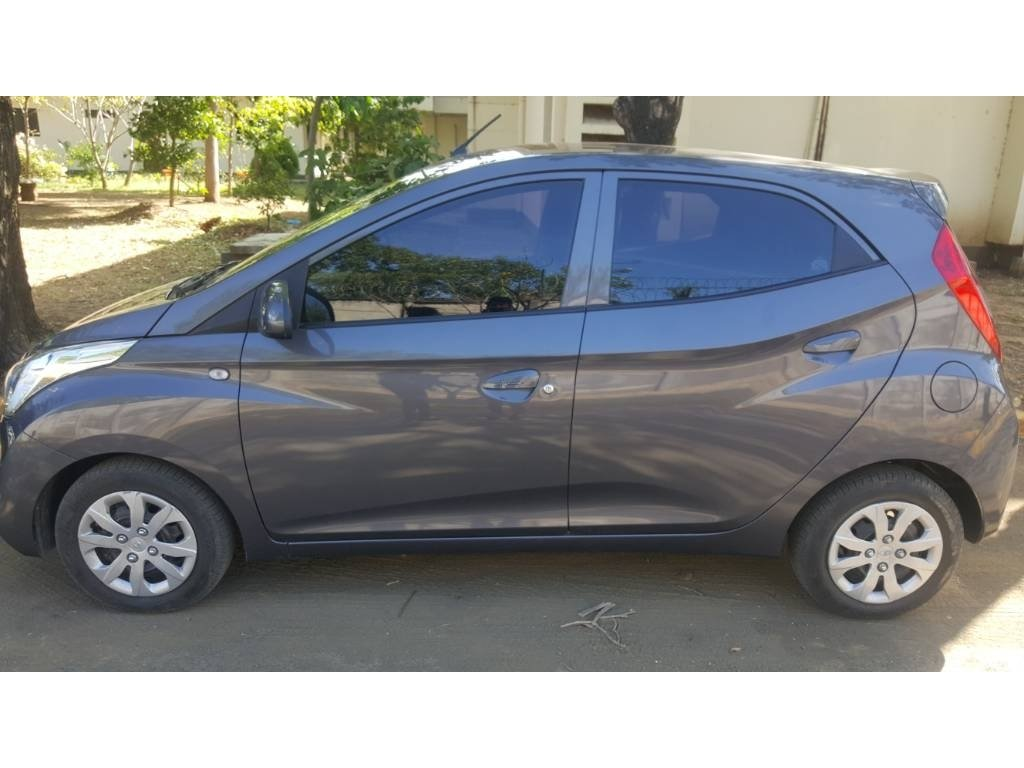eon: (1, 110, 1024, 638)
